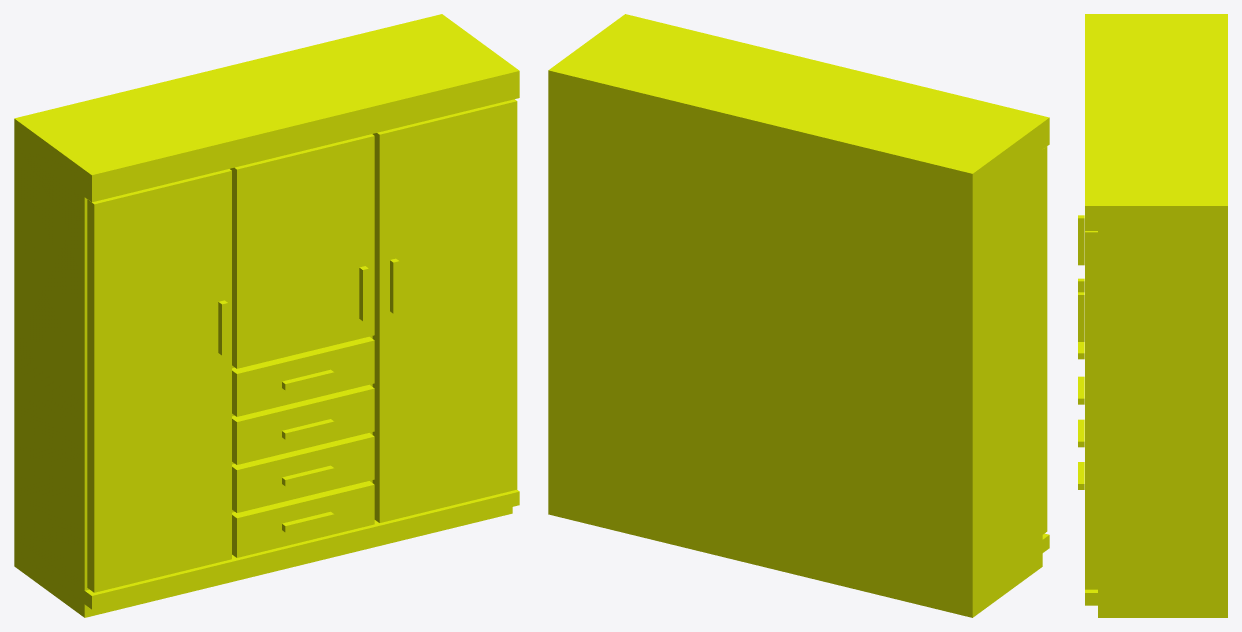
The model's file is Wardrobe2.FBX.
3 renders of one model, left to right at view 1: azimuth 30°, elevation 25°; view 2: azimuth 150°, elevation 25°; view 3: azimuth 270°, elevation 25°, orthographic. The views are drawn at different scales.
Visible parts, largest first — view 1: Box014; view 2: Box014; view 3: Box014.
Boxes of the visible parts, x1=… form: Box014: x1=14, y1=14, x2=519, y2=617; Box014: x1=548, y1=14, x2=1049, y2=617; Box014: x1=1078, y1=14, x2=1227, y2=617.
Size of the model in its own units: 4.35 by 4.35 by 1.43.
